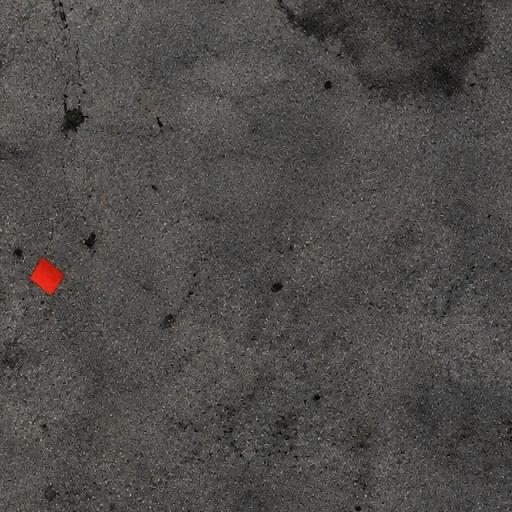RED_SQUARE: (28, 255, 66, 297)
